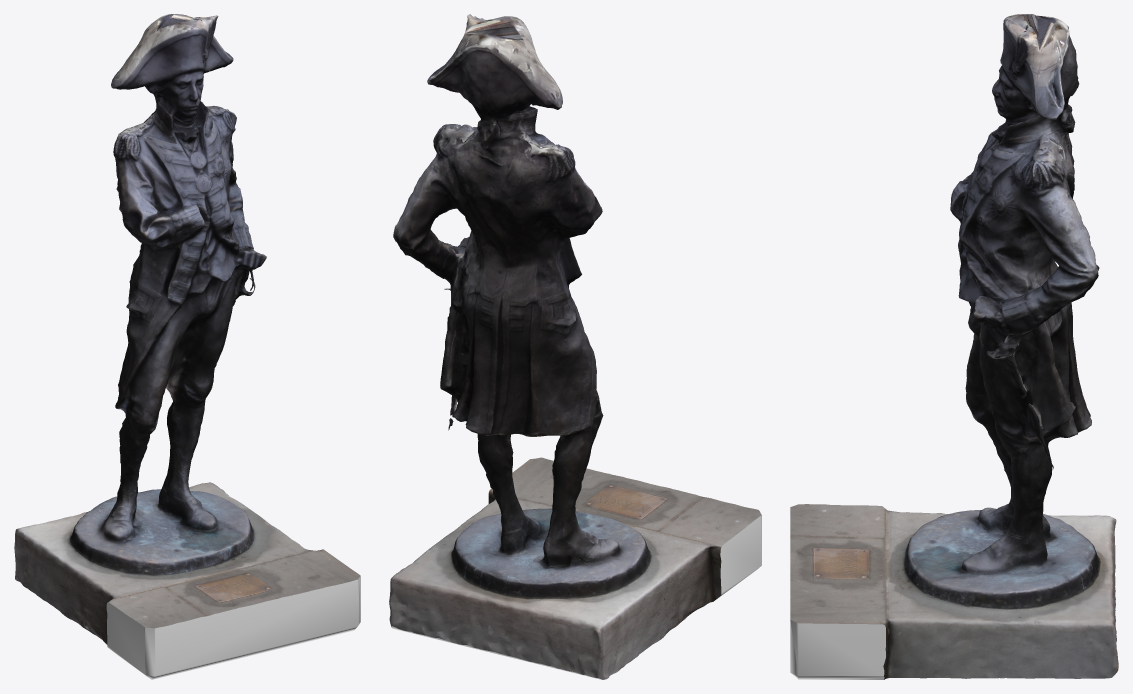
File: tuong.glb
3 renders of one model, left to right at view 1: azimuth 30°, elevation 25°; view 2: azimuth 150°, elevation 25°; view 3: azimuth 270°, elevation 25°, orthographic. The views are drawn at different scales.
Visible parts, largest first — view 1: Object_3, Object_2; view 2: Object_3, Object_2; view 3: Object_3, Object_2.
Part boxes in pixels (x1,y1,x2,y2): Object_3: [14, 14, 360, 644]; Object_2: [106, 576, 360, 679]; Object_3: [389, 14, 761, 679]; Object_2: [391, 515, 761, 679]; Object_3: [790, 14, 1118, 679]; Object_2: [790, 619, 885, 679].
Size of the model in its own units: 3.33 by 8.16 by 3.9.
2 materials, 1 textured.
